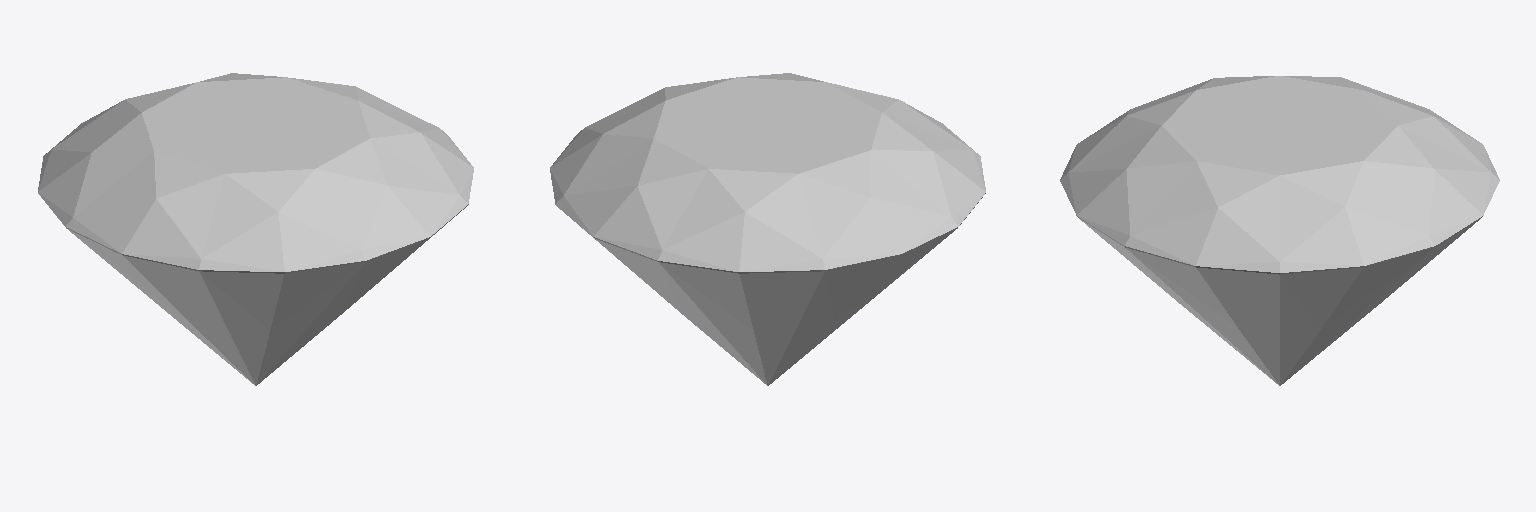
Rendered from diamond.obj.
The picture shows the model from 3 angles: view 1: azimuth 30°, elevation 25°; view 2: azimuth 150°, elevation 25°; view 3: azimuth 270°, elevation 25°; orthographic projection.
Visible parts, largest first — view 1: 000_Diamond; view 2: 000_Diamond; view 3: 000_Diamond.
Boxes of the visible parts, <box> form: 000_Diamond: <box>38,73,473,385</box>; 000_Diamond: <box>550,73,985,385</box>; 000_Diamond: <box>1060,76,1499,385</box>.
Size of the model in its own units: 10.81 by 7.07 by 10.81.